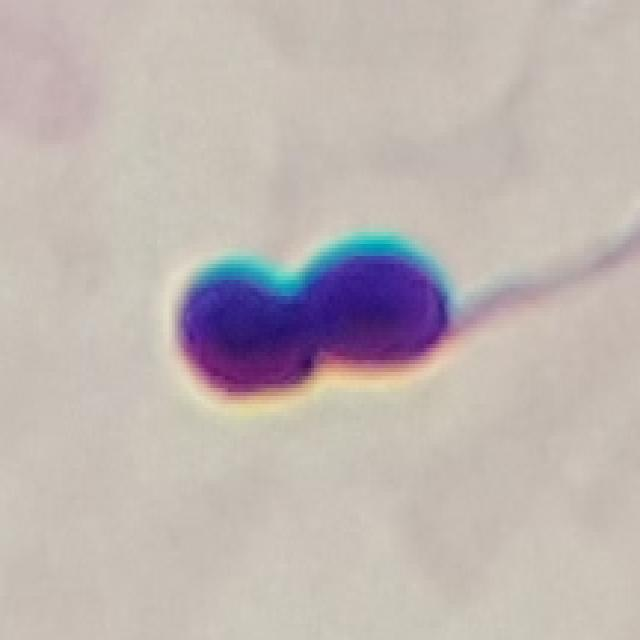abnormal sperm: (172, 234, 619, 405)
